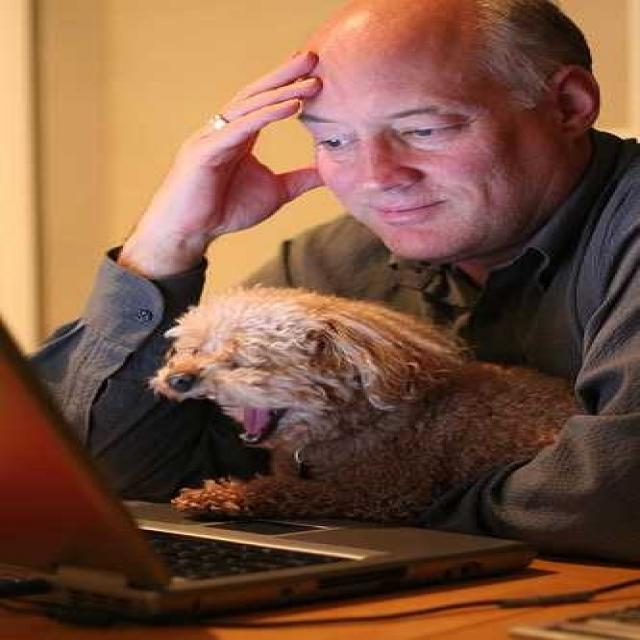laptop: (0, 367, 495, 639)
